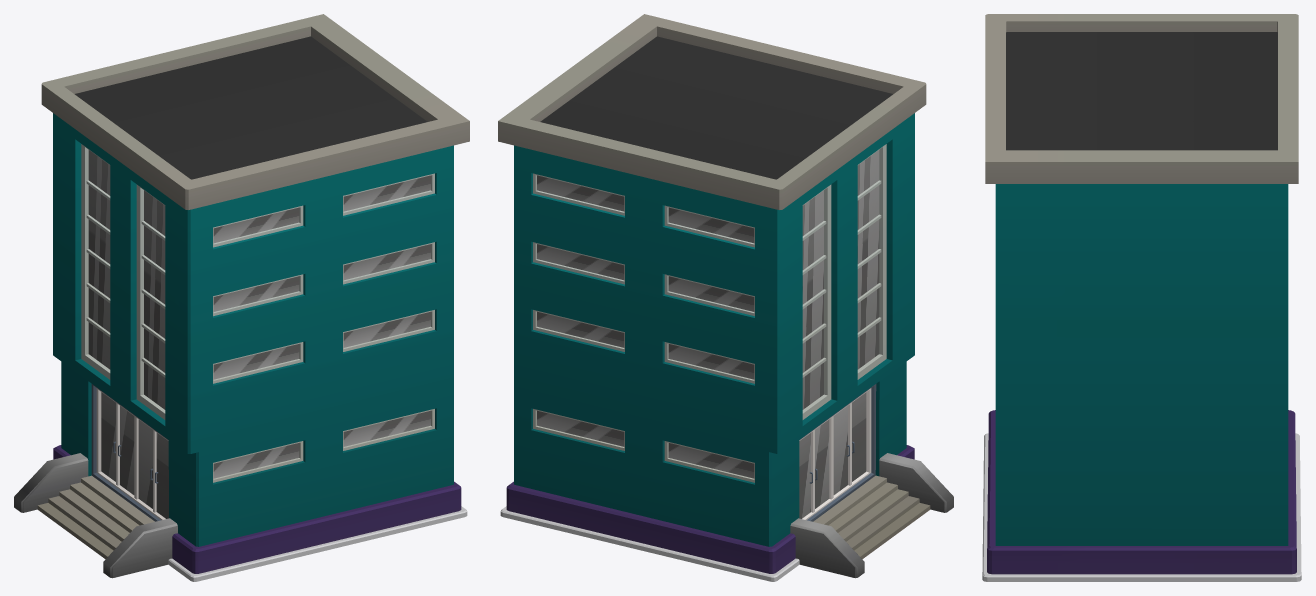
Rendered from Building_26_I.fbx.
The picture shows the model from 3 angles, left to right: view 1: azimuth 30°, elevation 25°; view 2: azimuth 150°, elevation 25°; view 3: azimuth 270°, elevation 25°; orthographic projection. The views are drawn at different scales.
Visible parts, largest first — view 1: Building_26_I; view 2: Building_26_I; view 3: Building_26_I.
Boxes of the visible parts, bbox=[...] form: Building_26_I: bbox=[14, 14, 469, 581]; Building_26_I: bbox=[498, 14, 953, 581]; Building_26_I: bbox=[982, 14, 1301, 581].
Size of the model in its own units: 923 by 1037 by 712.
